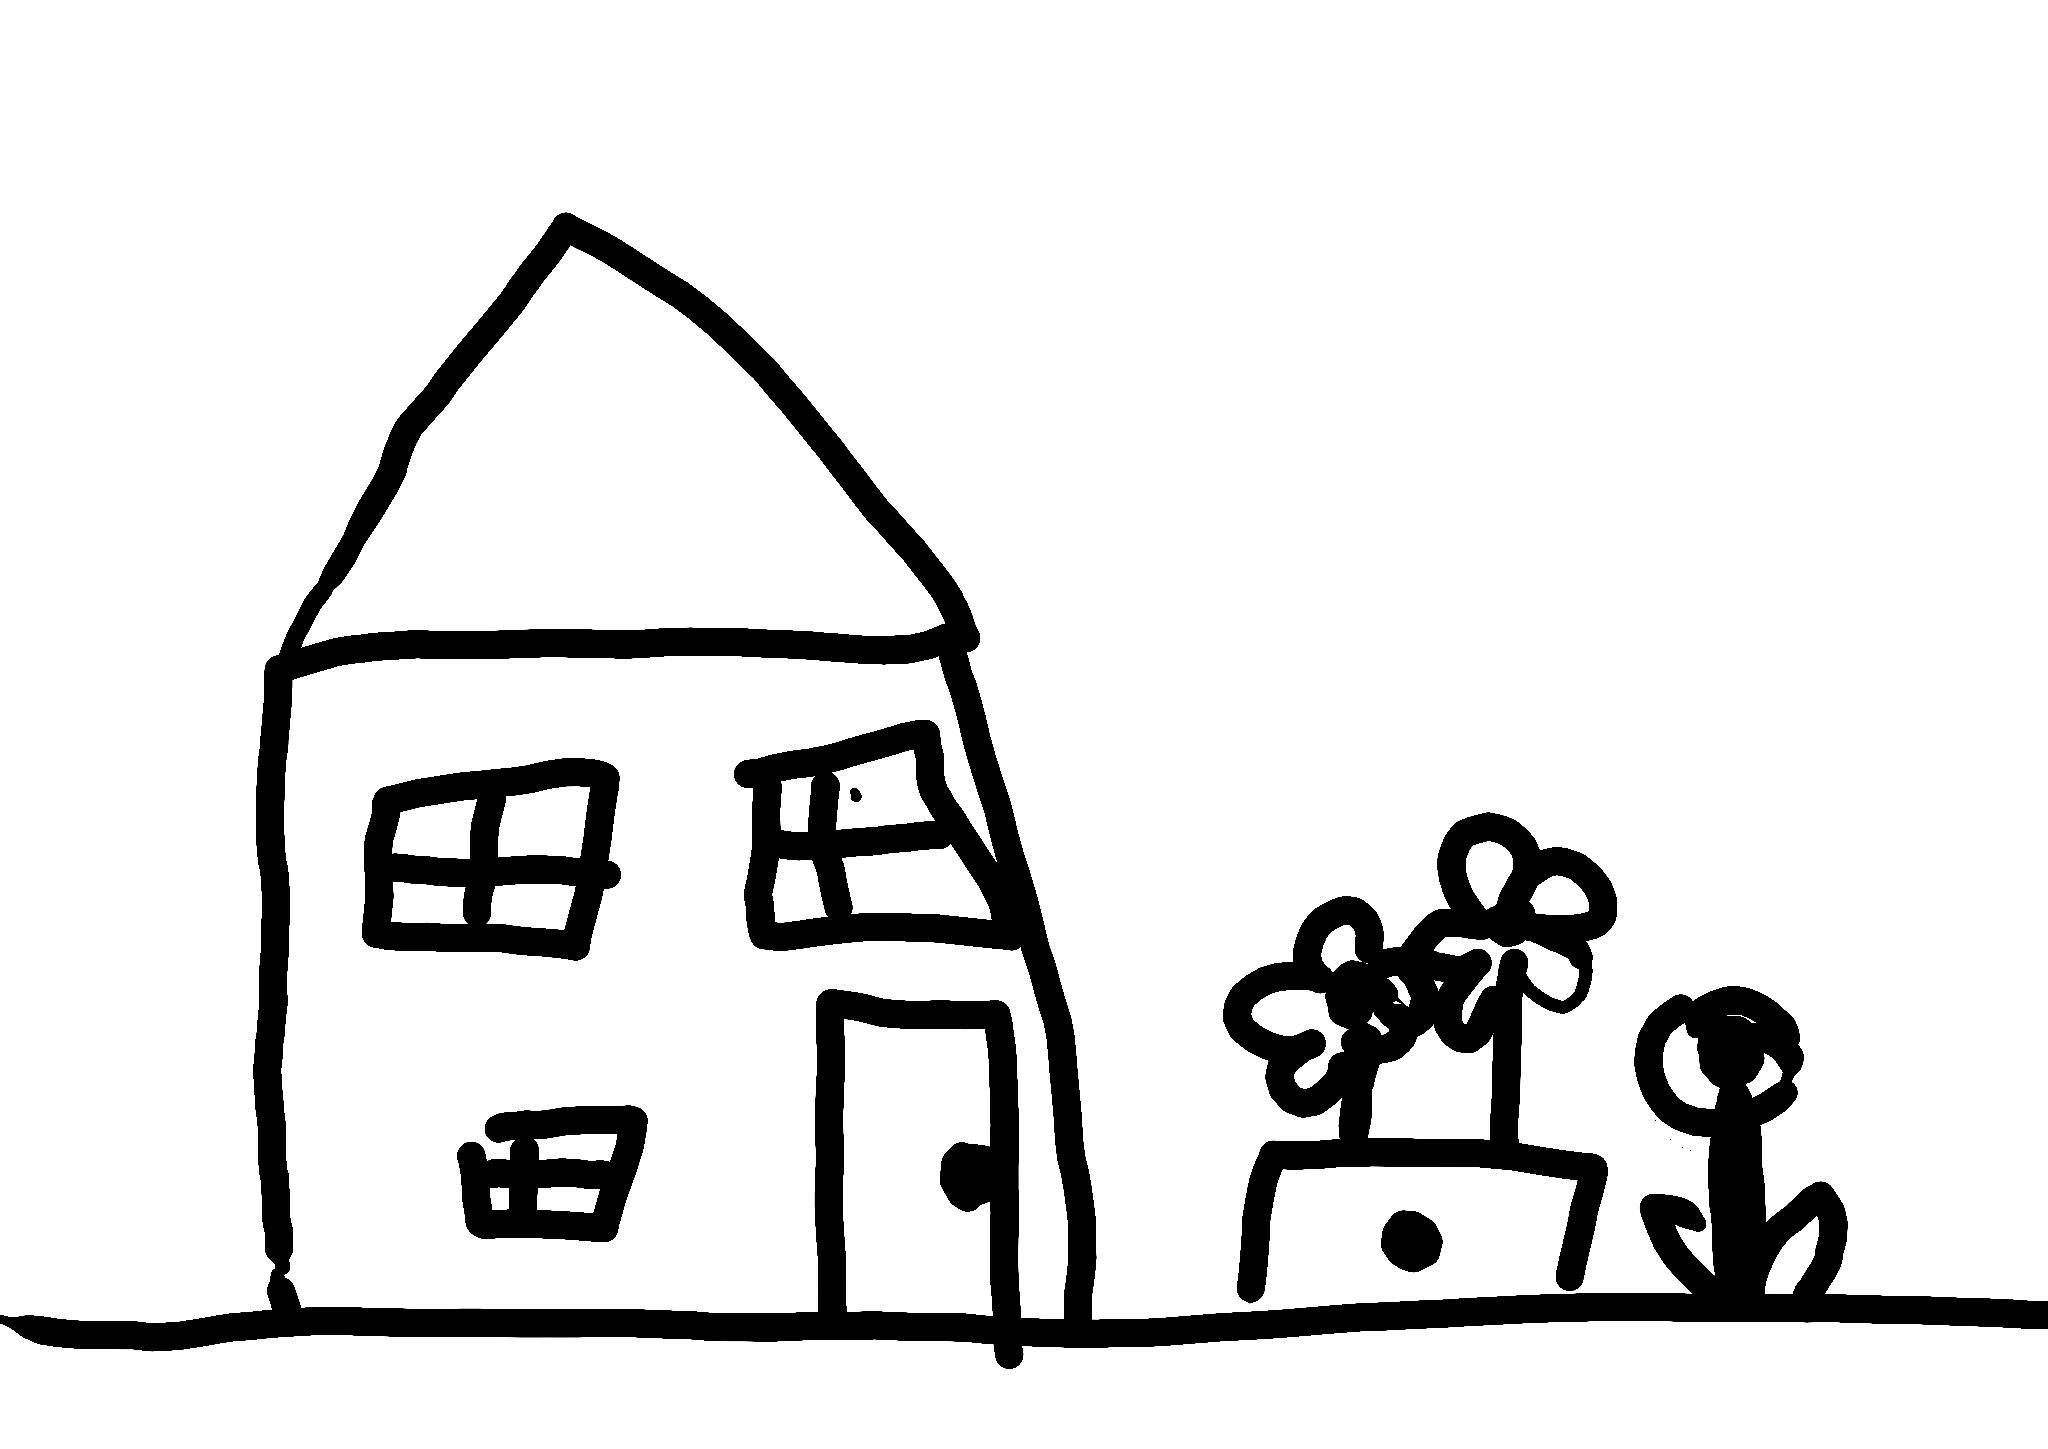door: (848, 1027, 990, 1313)
house: (252, 213, 1096, 1319)
roof: (317, 256, 935, 637)
wall: (282, 662, 1065, 1316)
window: (735, 721, 1019, 950), (361, 759, 619, 960), (456, 1107, 646, 1244)
